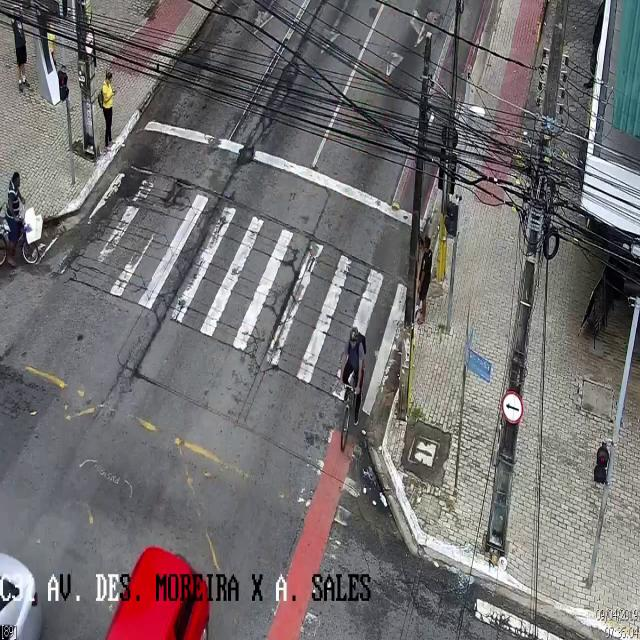Car: (102, 548, 210, 639), (0, 533, 66, 640)
